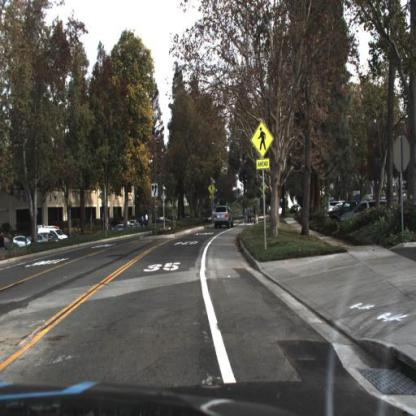car: (328, 198, 359, 222), (36, 224, 68, 245), (343, 199, 371, 221), (213, 207, 234, 228), (45, 225, 69, 241), (15, 235, 33, 249)
pedestrian: (248, 203, 253, 227), (145, 211, 150, 229)
